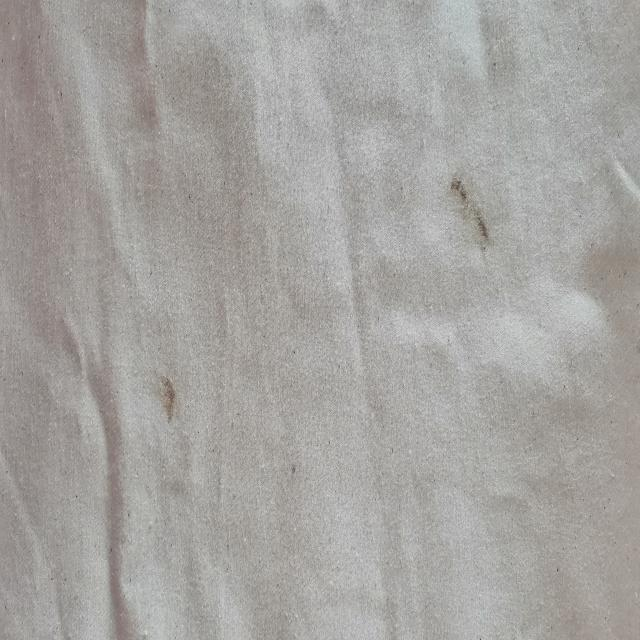taaaches: (443, 159, 492, 260), (158, 366, 178, 436)
